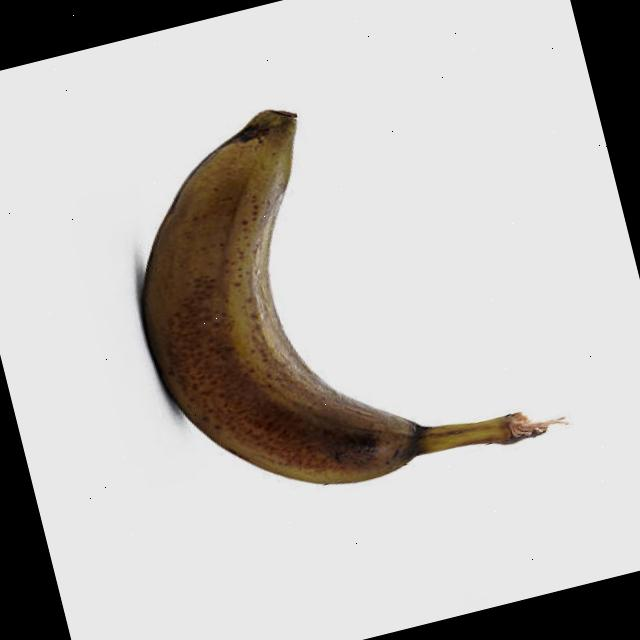overripe: (94, 62, 539, 527)
